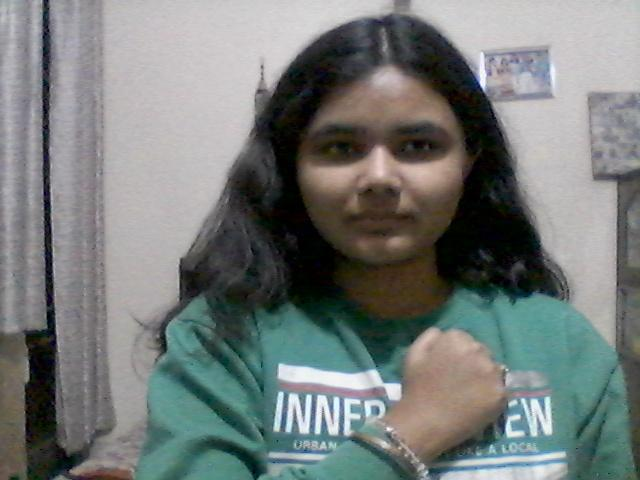sorry: (369, 320, 513, 464)
